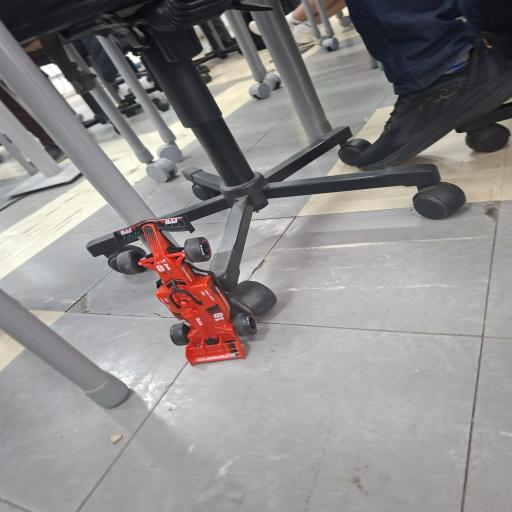carro: (110, 206, 276, 377)
